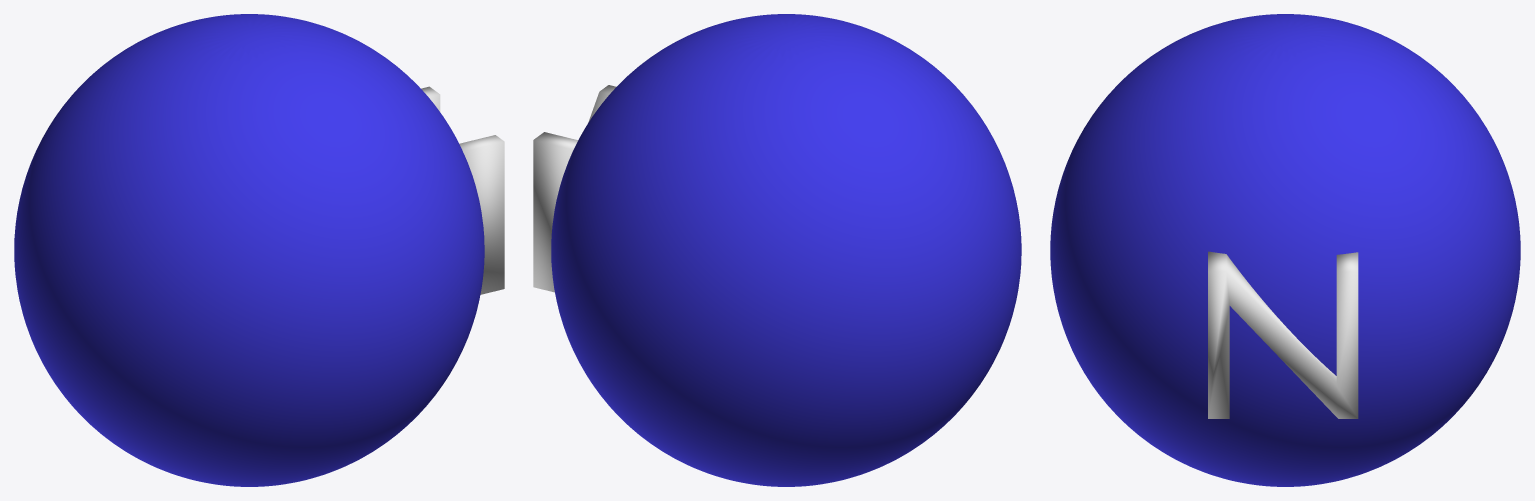
The model's file is Nitrogen.fbx.
3 renders of one model, left to right at view 1: azimuth 30°, elevation 25°; view 2: azimuth 150°, elevation 25°; view 3: azimuth 270°, elevation 25°, orthographic.
Visible parts, largest first — view 1: Sphere, Text; view 2: Sphere, Text; view 3: Sphere, Text.
Part boxes in pixels (bbox=[...]): Sphere: bbox=[14, 14, 484, 486]; Text: bbox=[421, 86, 504, 294]; Sphere: bbox=[551, 14, 1021, 486]; Text: bbox=[533, 85, 616, 292]; Sphere: bbox=[1050, 14, 1520, 486]; Text: bbox=[1208, 251, 1358, 418].
Size of the model in its own units: 204 by 200 by 197.
